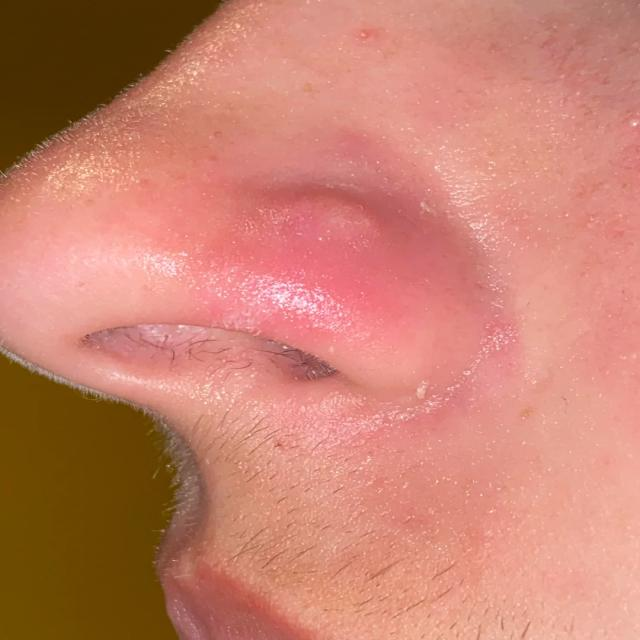nodule: (272, 188, 382, 251)
